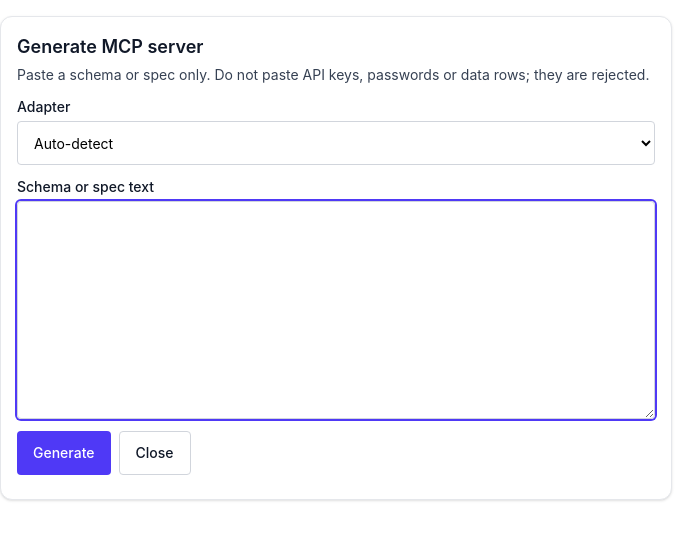
it: GenerateMcpPanel › network failure shows a generic message
The image size is (689, 538).
Type "x" into the text box labelled "Schema or spec text".
click(336, 310); type("x")  # box [17,201,655,419]
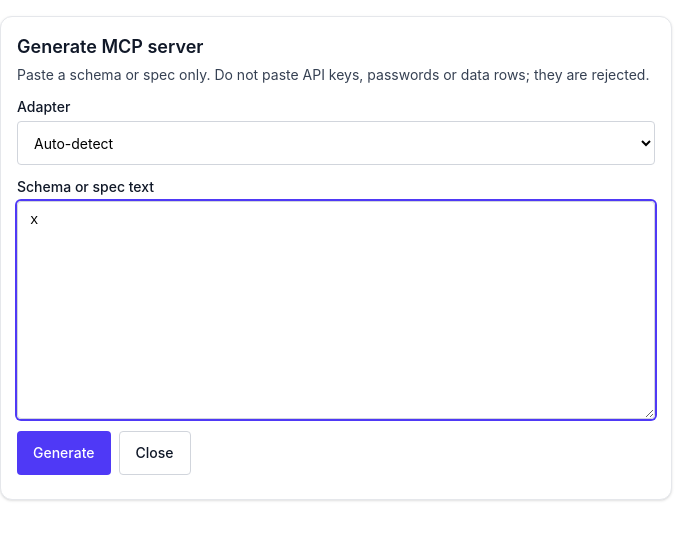
Click the button "Generate".
click(64, 453)  # box [17,431,110,475]
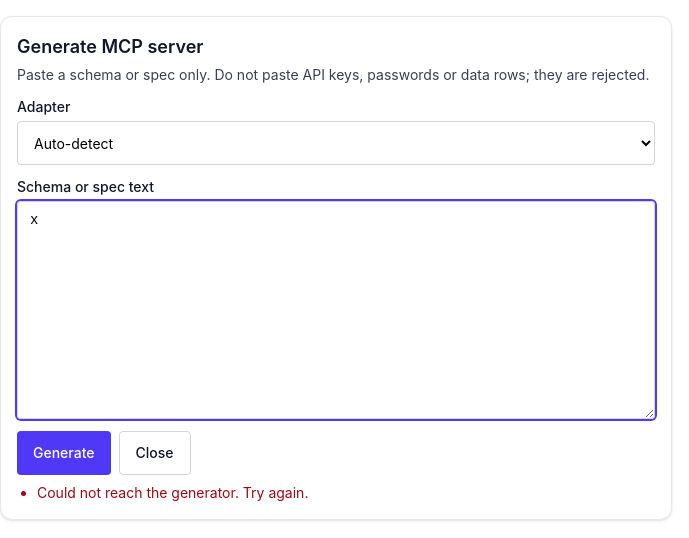
expect the message shows "Could not reach the generator": met, box [37,484,308,501]
